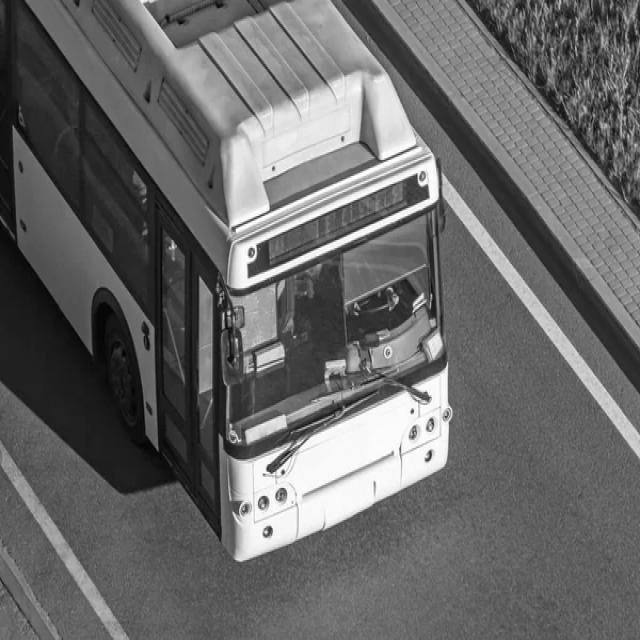Bus: (1, 0, 452, 561)
